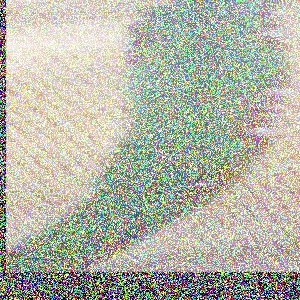Brown_Spot: (178, 159, 239, 204), (239, 76, 300, 110), (75, 231, 131, 264), (236, 117, 284, 144), (241, 23, 297, 42), (230, 102, 287, 120), (252, 0, 287, 25)
